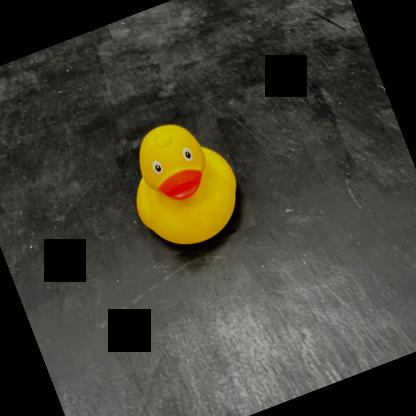duck: (109, 104, 256, 262)
